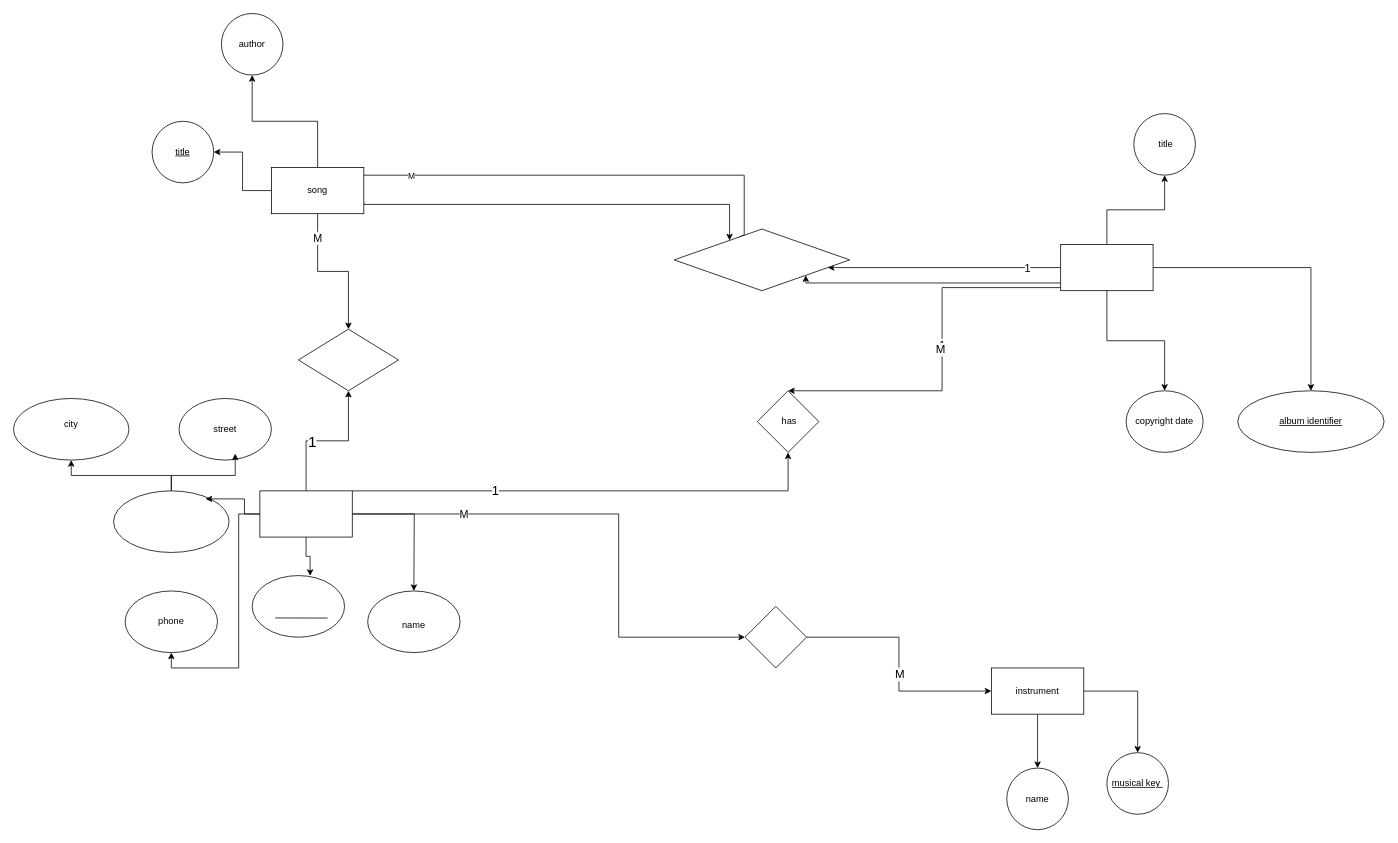
Image size: 1398x843. Some labels were removed from this diagram. Each missing label, with the box of its shape:
address: (113, 490, 229, 552)
album: (1060, 244, 1153, 291)
has: (673, 228, 850, 291)
id: (275, 594, 321, 618)
musician: (259, 490, 352, 537)
performed by: (298, 328, 398, 391)
play: (744, 606, 807, 668)
